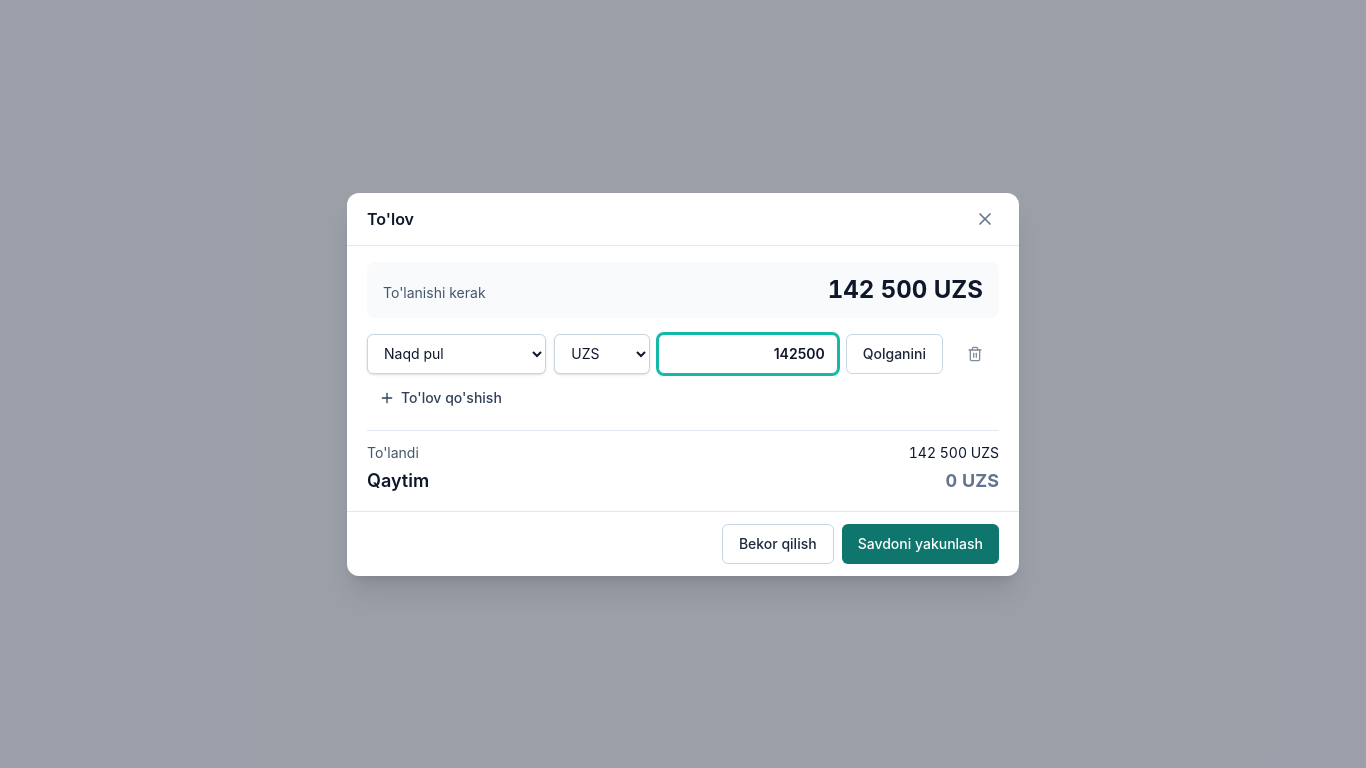
Test: to'lov oynasi › dollar + karta aralash: 'Qolganini' tugmasi aniq summani qo'yadi
Later steps or results of the test are not shown.
Select "USD" in the dropdown with test id "pay-currency-1" at (602, 354), box [554,334,650,374]
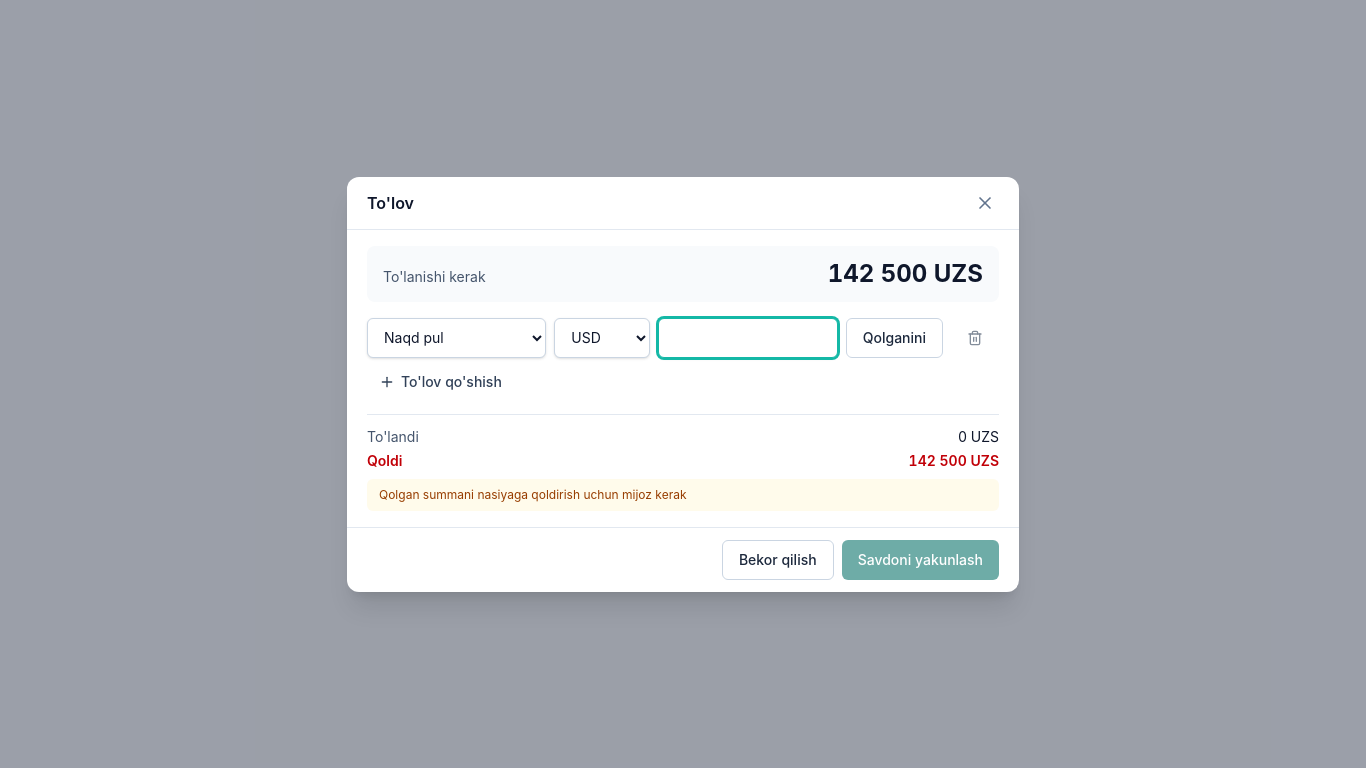
Type "10" into the field with test id "pay-amount-1" at (748, 338), box [658,318,838,358]
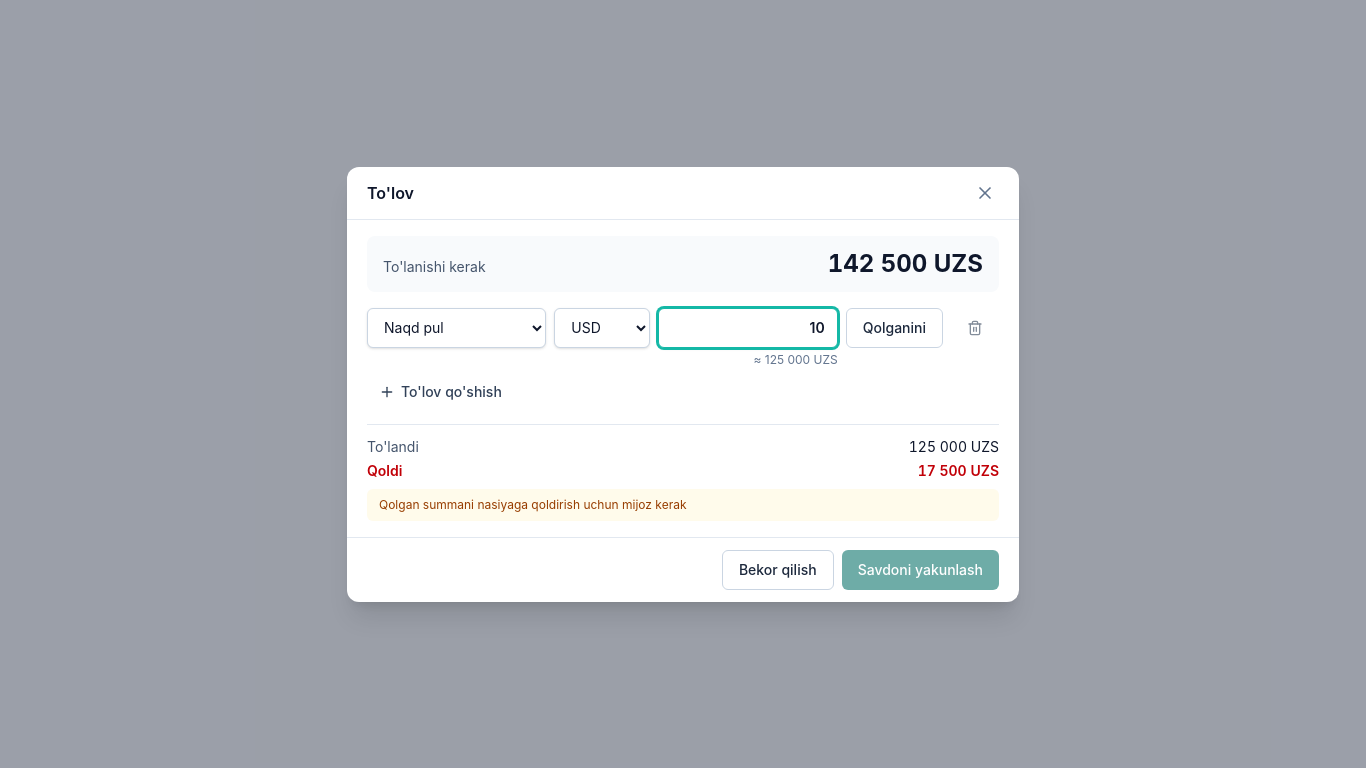
Result: the text with test id "pay-remaining" reads "17 500 UZS" at [918,462,999,478]
Click the button with test id "pay-add" at (440, 392), box [367,376,514,408]
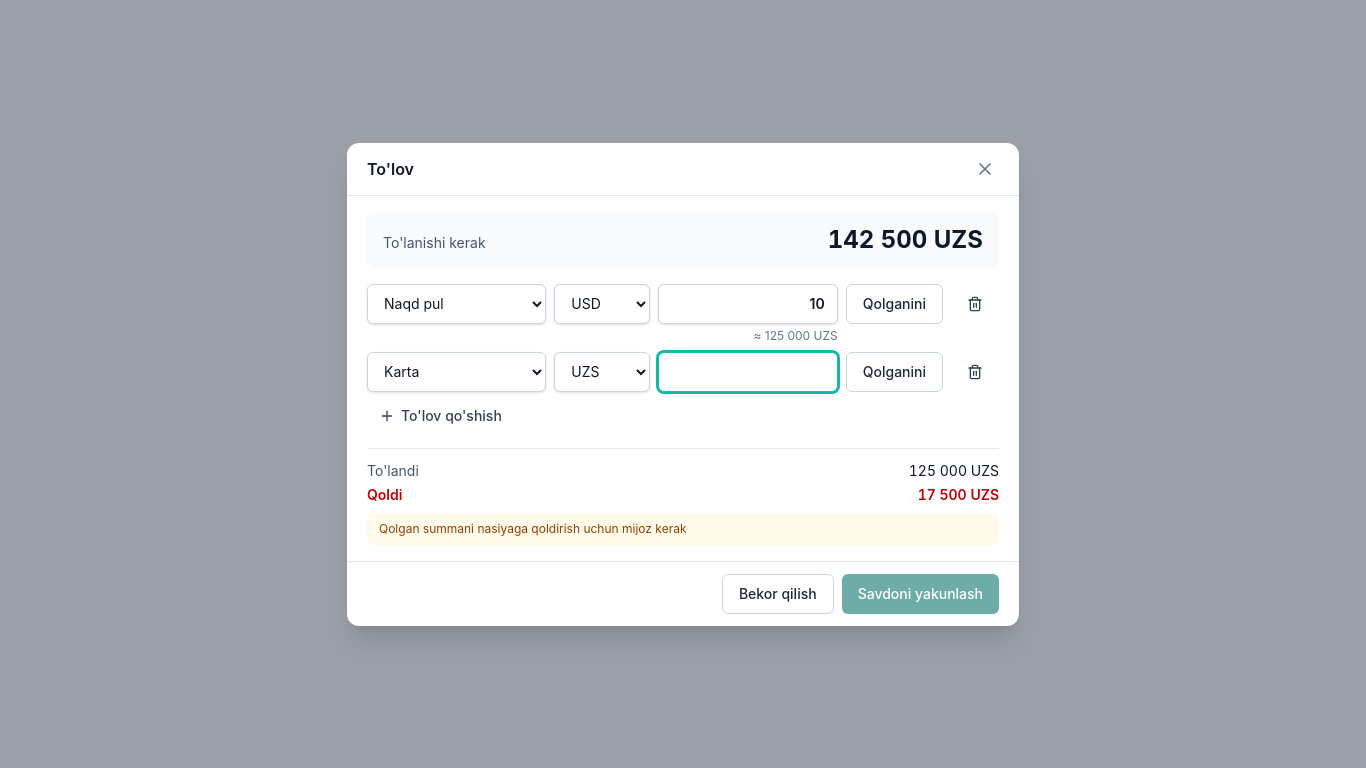
Click the button with test id "pay-fill-2" at (894, 372), box [846,352,943,392]
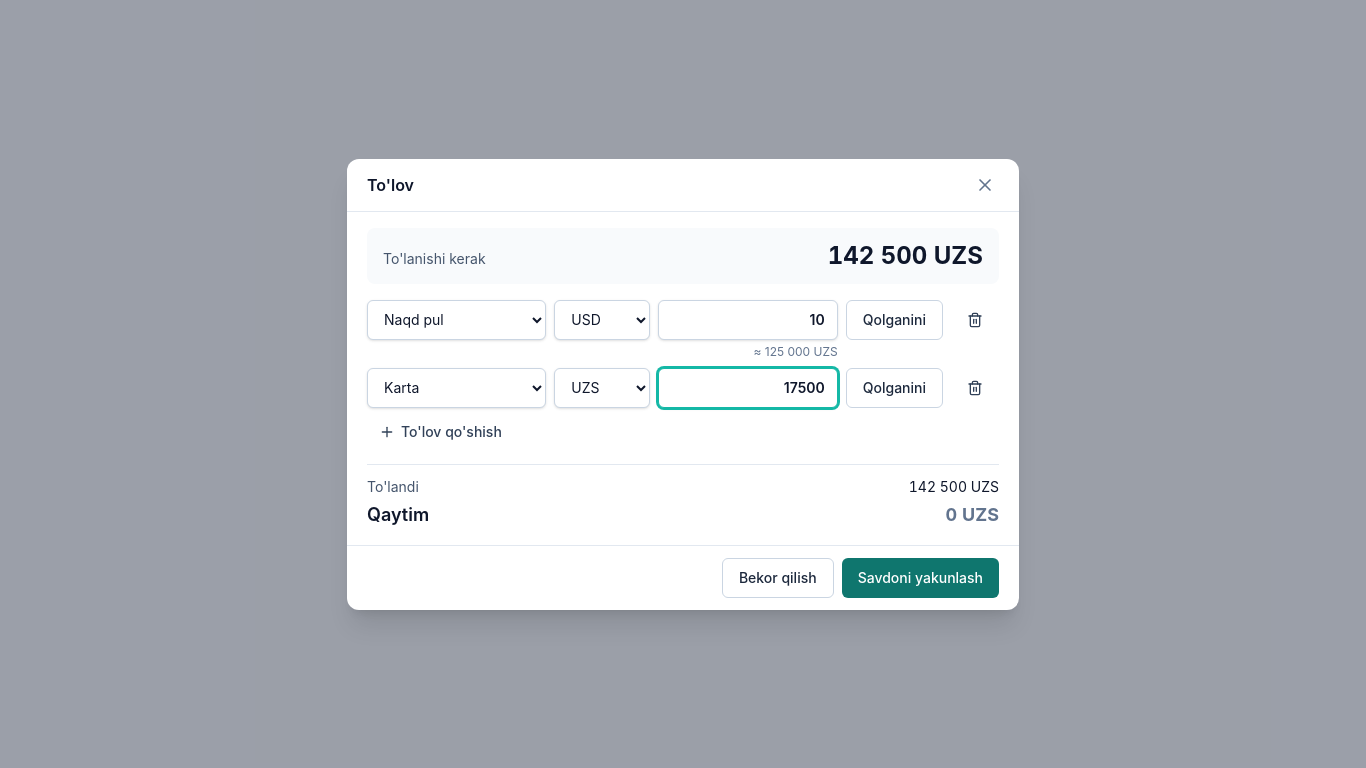
Result: the field with test id "pay-amount-2" holds "17500" at [658,368,838,408]
